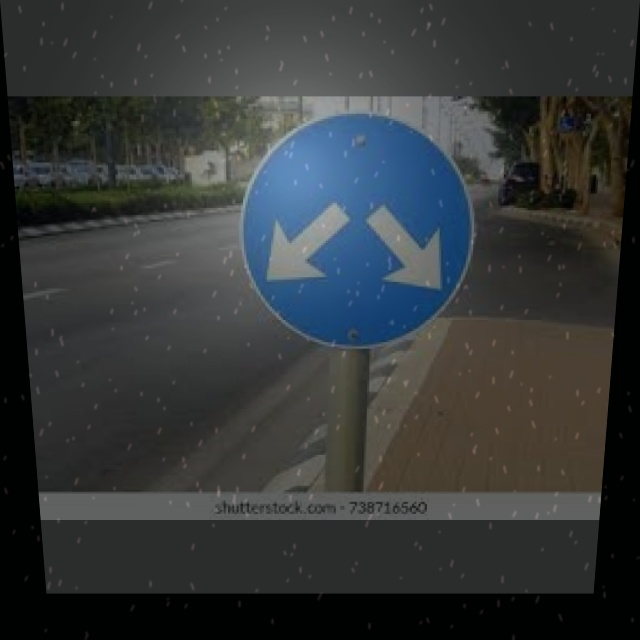Pass_Either_Side: (236, 110, 482, 349)
